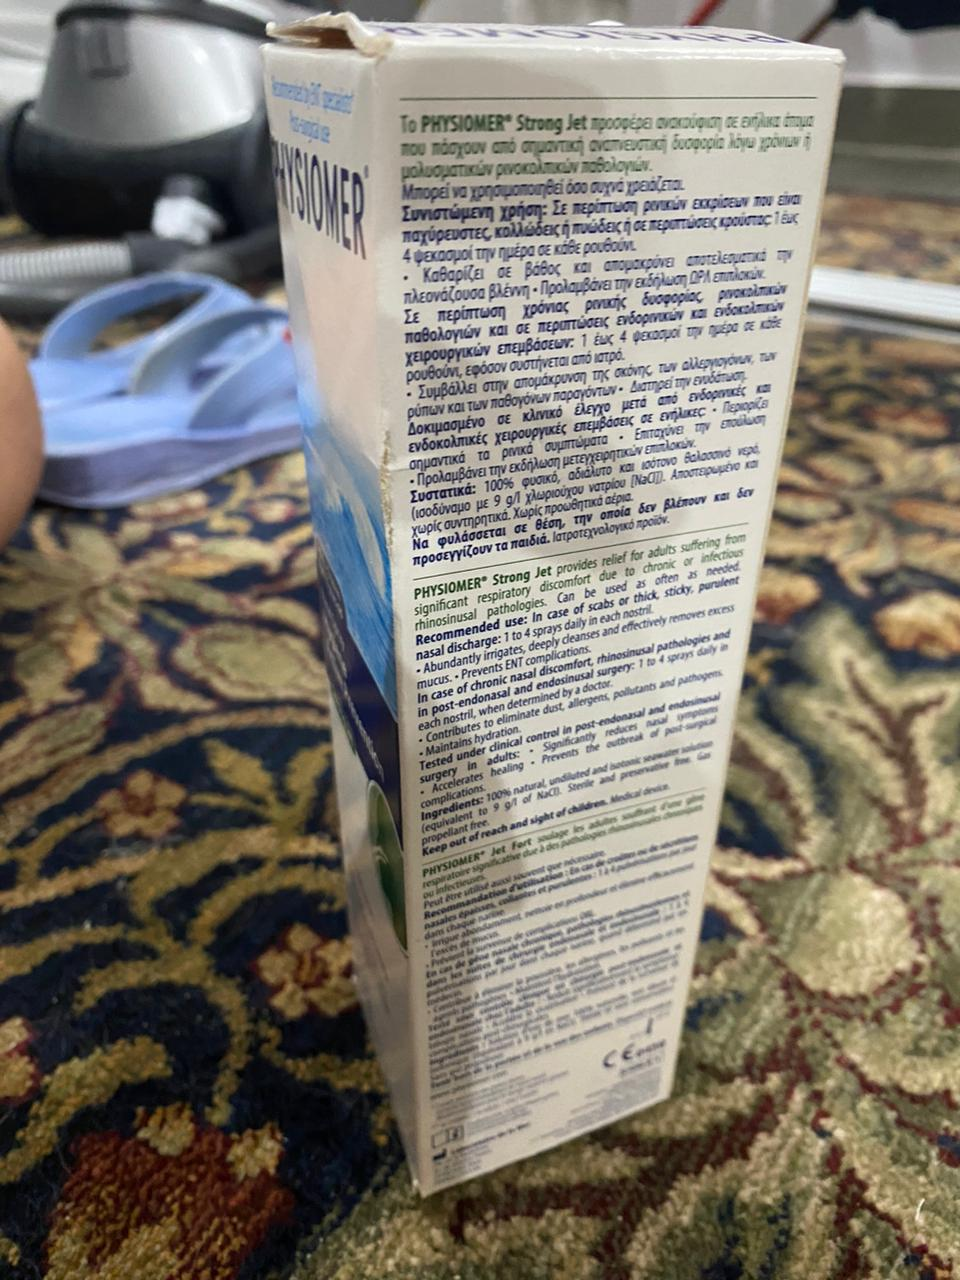Physiomer: (260, 18, 834, 1192)
